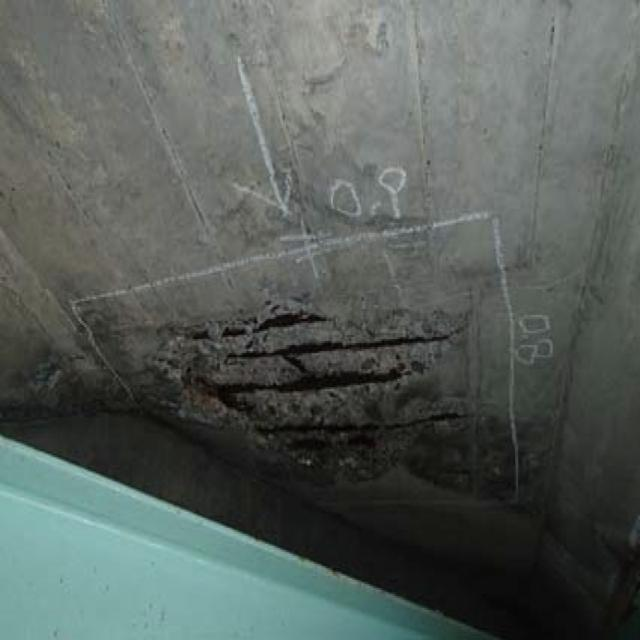spalling: (127, 309, 512, 500)
